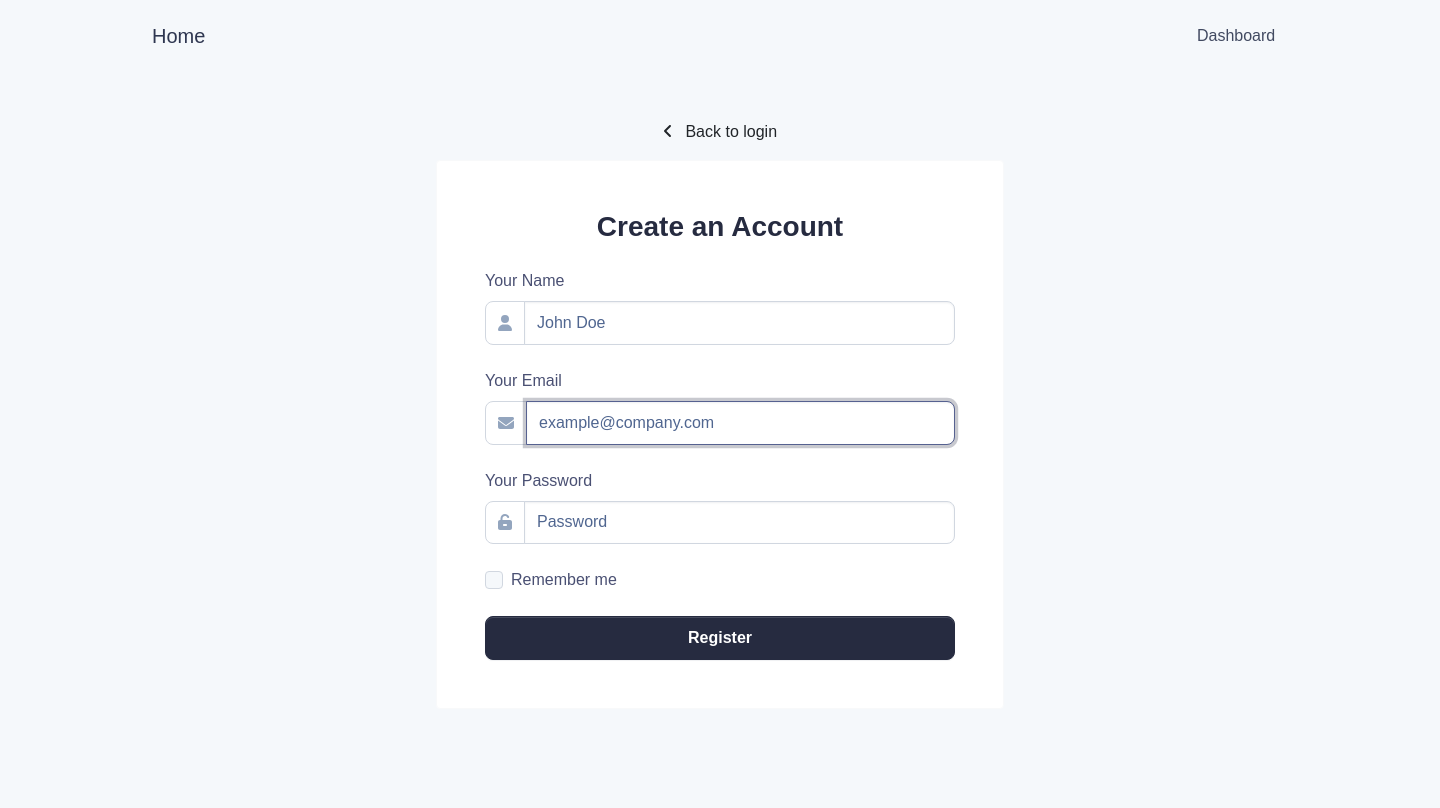
Test: Register › back to login link works
Click the link "Back to login": (720, 132) [663,123,777,140]
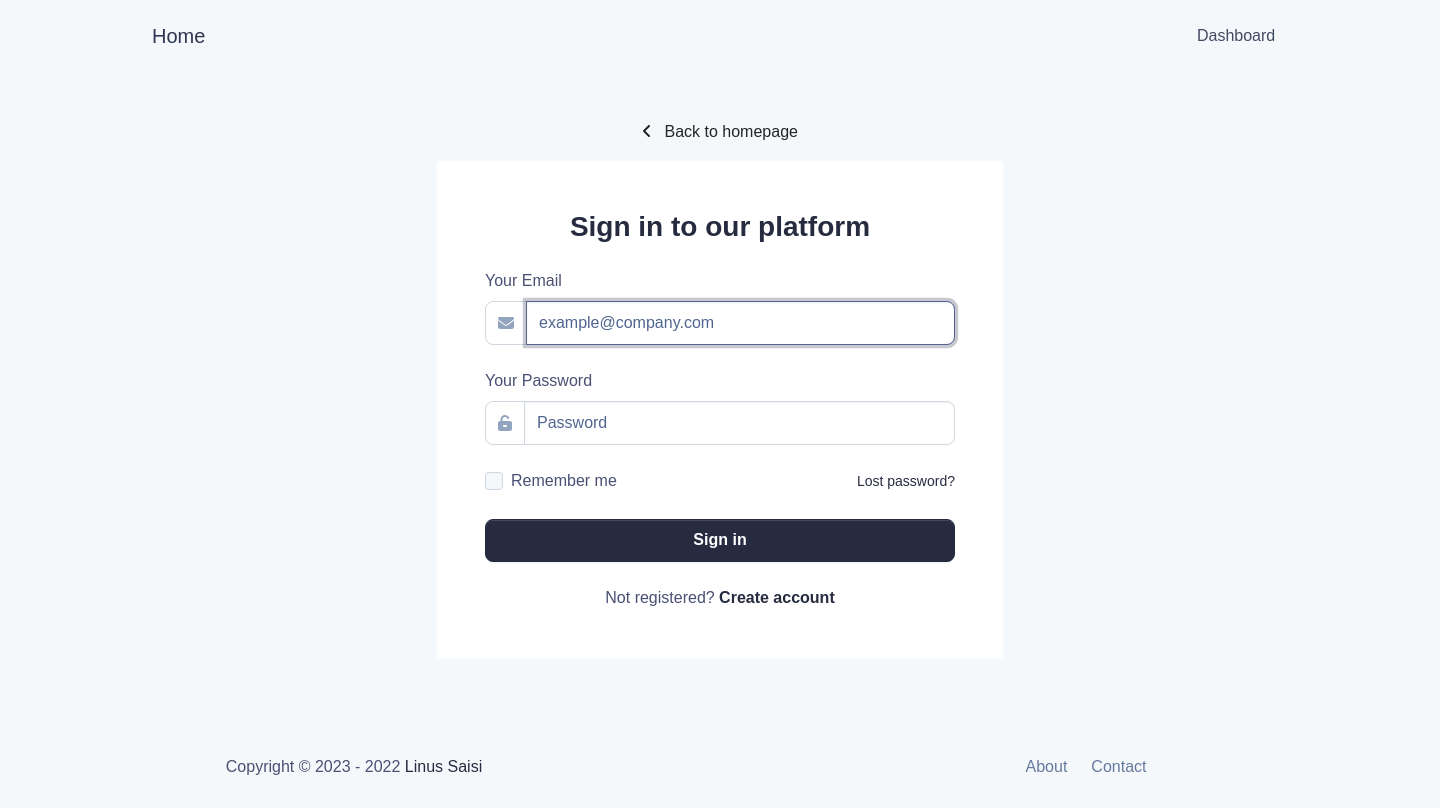
Result: the heading "Sign in to our platform" is shown at [570,211,870,242]
